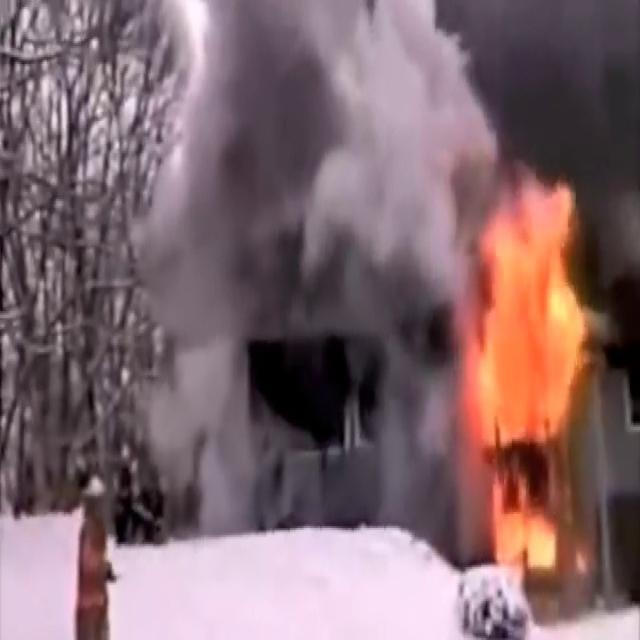Fire: (456, 167, 604, 580)
Smoke: (108, 0, 480, 551)
